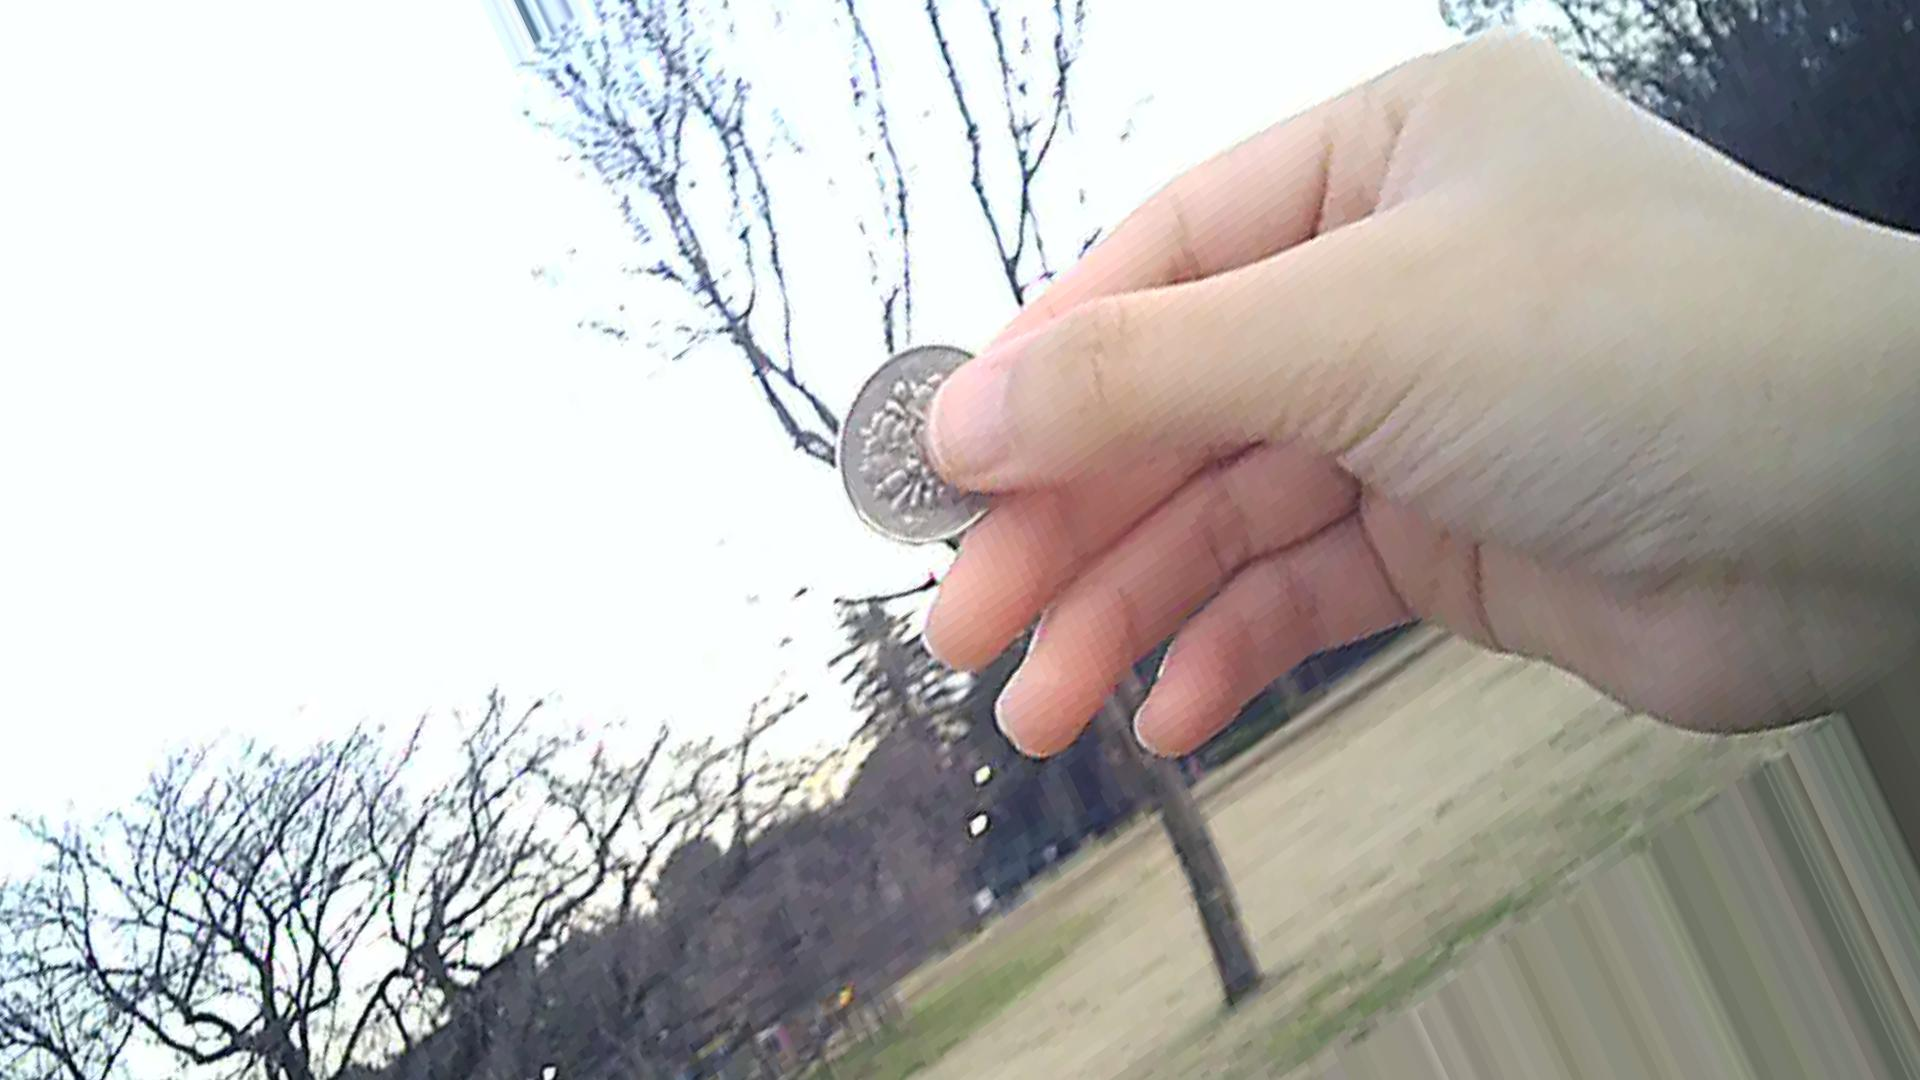100 Yen: (824, 338, 1014, 560)
